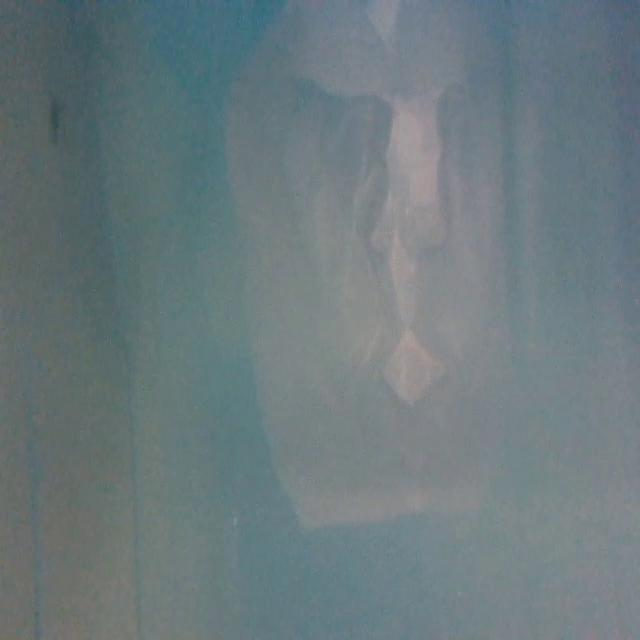plastic bags: (242, 11, 523, 533)
